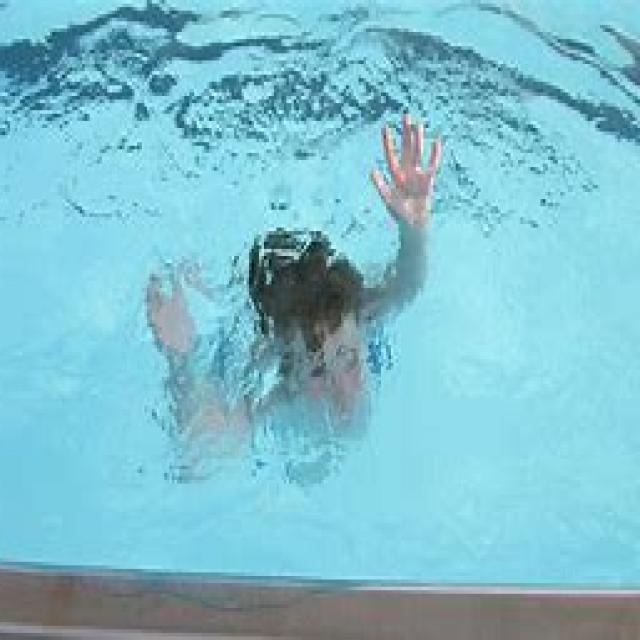drowning: (117, 80, 458, 501)
